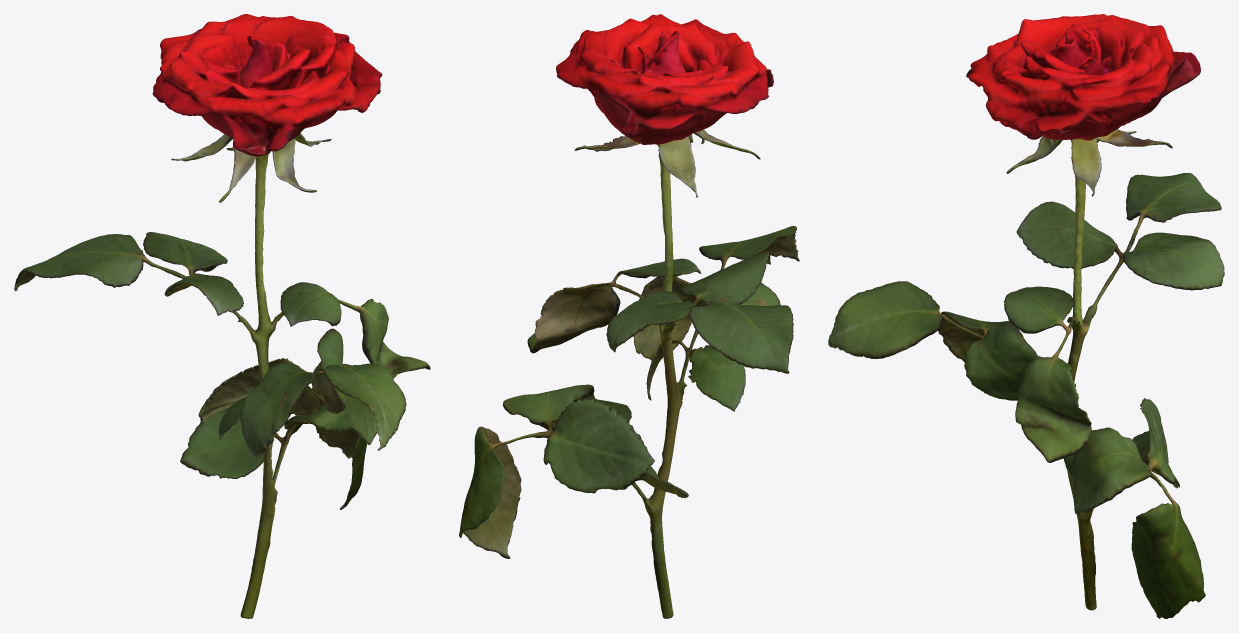
File: rose.glb
3 views of the same model, side by side, from view 1: azimuth 30°, elevation 25°; view 2: azimuth 150°, elevation 25°; view 3: azimuth 270°, elevation 25° (orthographic).
Parts seen in each view (by area): view 1: Object_2, Object_3; view 2: Object_2, Object_3; view 3: Object_2, Object_3.
Part boxes in pixels (x1=…): Object_2: x1=14, y1=39, x2=430, y2=618; Object_3: x1=100, y1=14, x2=394, y2=496; Object_2: x1=459, y1=31, x2=799, y2=618; Object_3: x1=538, y1=14, x2=773, y2=478; Object_2: x1=828, y1=27, x2=1224, y2=618; Object_3: x1=966, y1=14, x2=1207, y2=488.
Bounding box in the file's own units: 1.51 × 2.5 × 1.54.
1 material, 1 textured.
